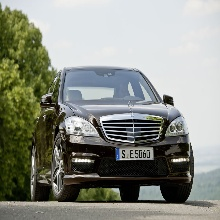no damage: (30, 66, 194, 202)
